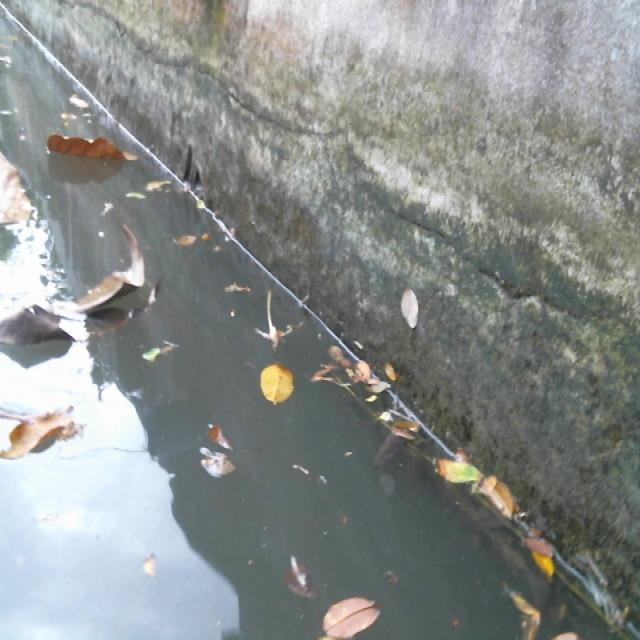Big-leaf: (0, 227, 155, 361), (0, 406, 95, 466), (42, 128, 145, 172), (0, 145, 38, 233)
Small-leaf: (317, 594, 395, 640), (430, 455, 489, 494), (200, 443, 243, 493), (490, 469, 524, 530), (259, 358, 295, 409), (282, 546, 312, 604), (525, 534, 558, 581), (208, 417, 236, 448), (170, 229, 217, 246)
